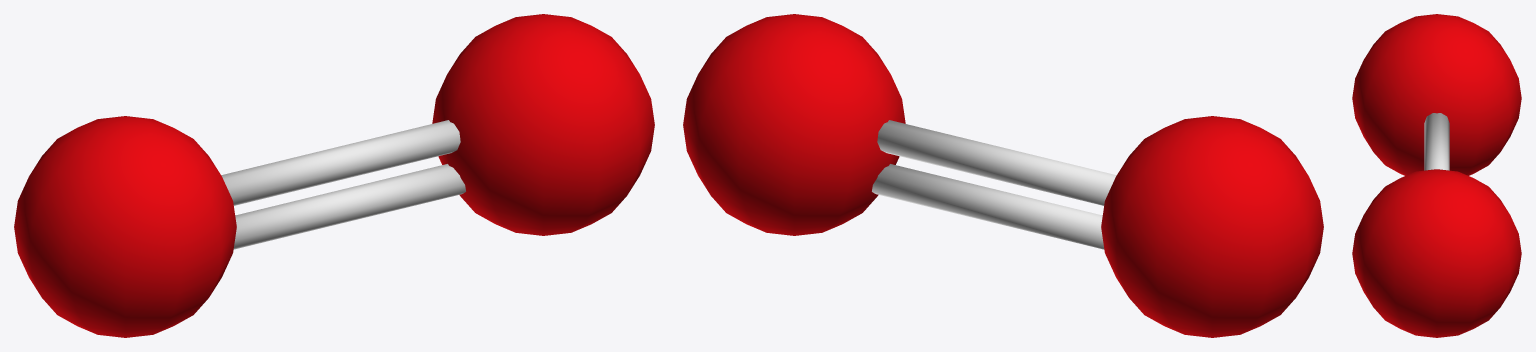
The model's file is molecula_o2.fbx.
3 views of the same model, side by side, from view 1: azimuth 30°, elevation 25°; view 2: azimuth 150°, elevation 25°; view 3: azimuth 270°, elevation 25° (orthographic). The views are drawn at different scales.
Visible parts, largest first — view 1: Sphere, Sphere.001, Cylinder.001, Cylinder.002; view 2: Sphere, Sphere.001, Cylinder.001, Cylinder.002; view 3: Sphere.001, Sphere, Cylinder.001.
Part boxes in pixels (x1=…): Sphere: x1=14, y1=116, x2=236, y2=337; Sphere.001: x1=432, y1=14, x2=654, y2=235; Cylinder.001: x1=221, y1=120, x2=460, y2=205; Cylinder.002: x1=233, y1=164, x2=465, y2=249; Sphere: x1=1101, y1=116, x2=1323, y2=337; Sphere.001: x1=683, y1=14, x2=905, y2=235; Cylinder.001: x1=877, y1=120, x2=1116, y2=205; Cylinder.002: x1=872, y1=164, x2=1104, y2=249; Sphere.001: x1=1352, y1=169, x2=1521, y2=337; Sphere: x1=1352, y1=14, x2=1521, y2=175; Cylinder.001: x1=1424, y1=113, x2=1449, y2=170.
Size of the model in its own units: 633 by 200 by 200.
